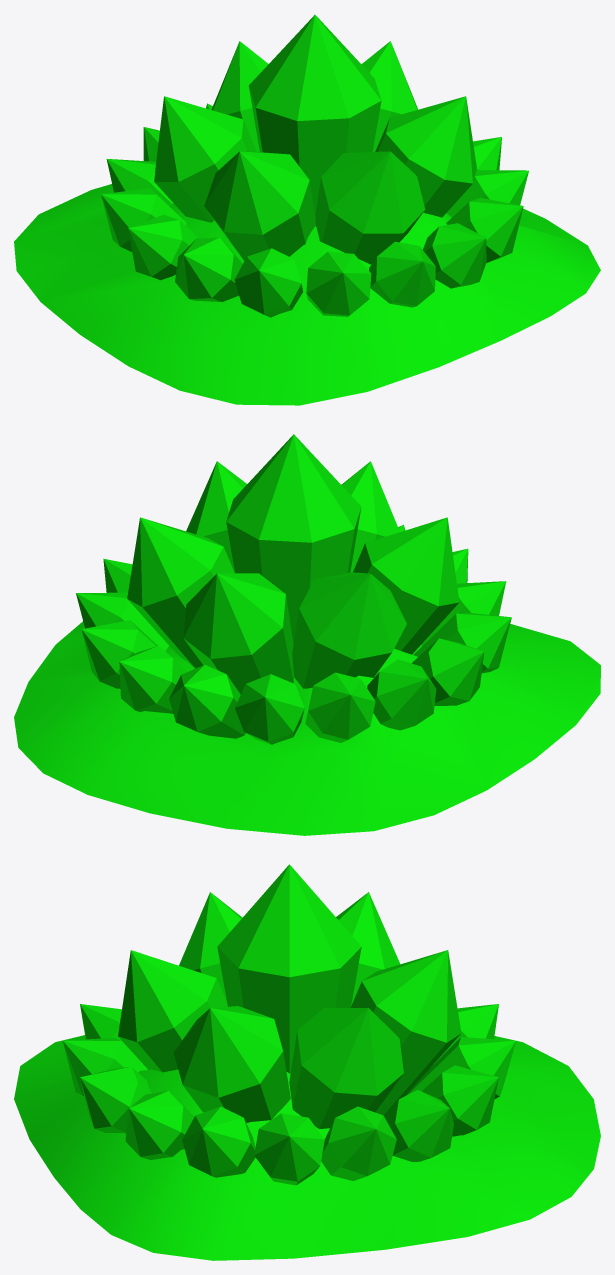
The model's file is Crystal.fbx.
3 renders of one model, top to bottom at view 1: azimuth 30°, elevation 25°; view 2: azimuth 150°, elevation 25°; view 3: azimuth 270°, elevation 25°, orthographic. The views are drawn at different scales.
Visible parts, largest first — view 1: Crystal; view 2: Crystal; view 3: Crystal.
Part boxes in pixels (box(x1,y1,x2,y2)): Crystal: box(14, 14, 600, 405); Crystal: box(14, 434, 600, 835); Crystal: box(14, 864, 600, 1260).
Size of the model in its own units: 1.51 by 0.8433 by 1.54.
